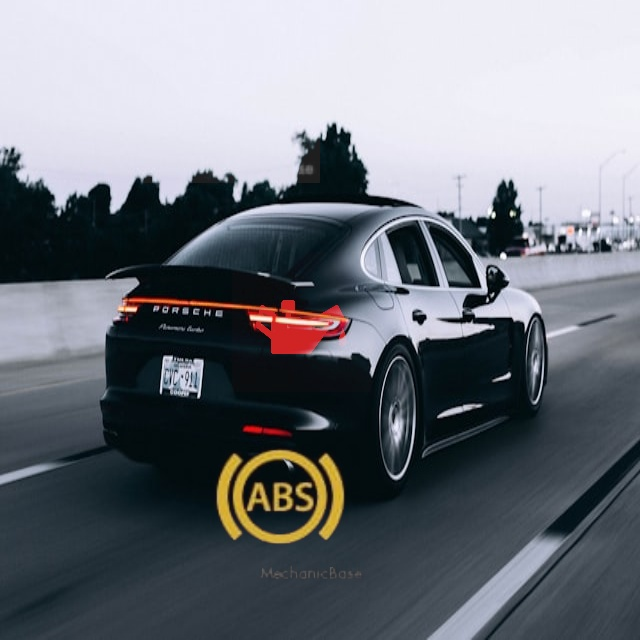symbol: (190, 409, 369, 588), (142, 5, 320, 183), (232, 252, 372, 392)
